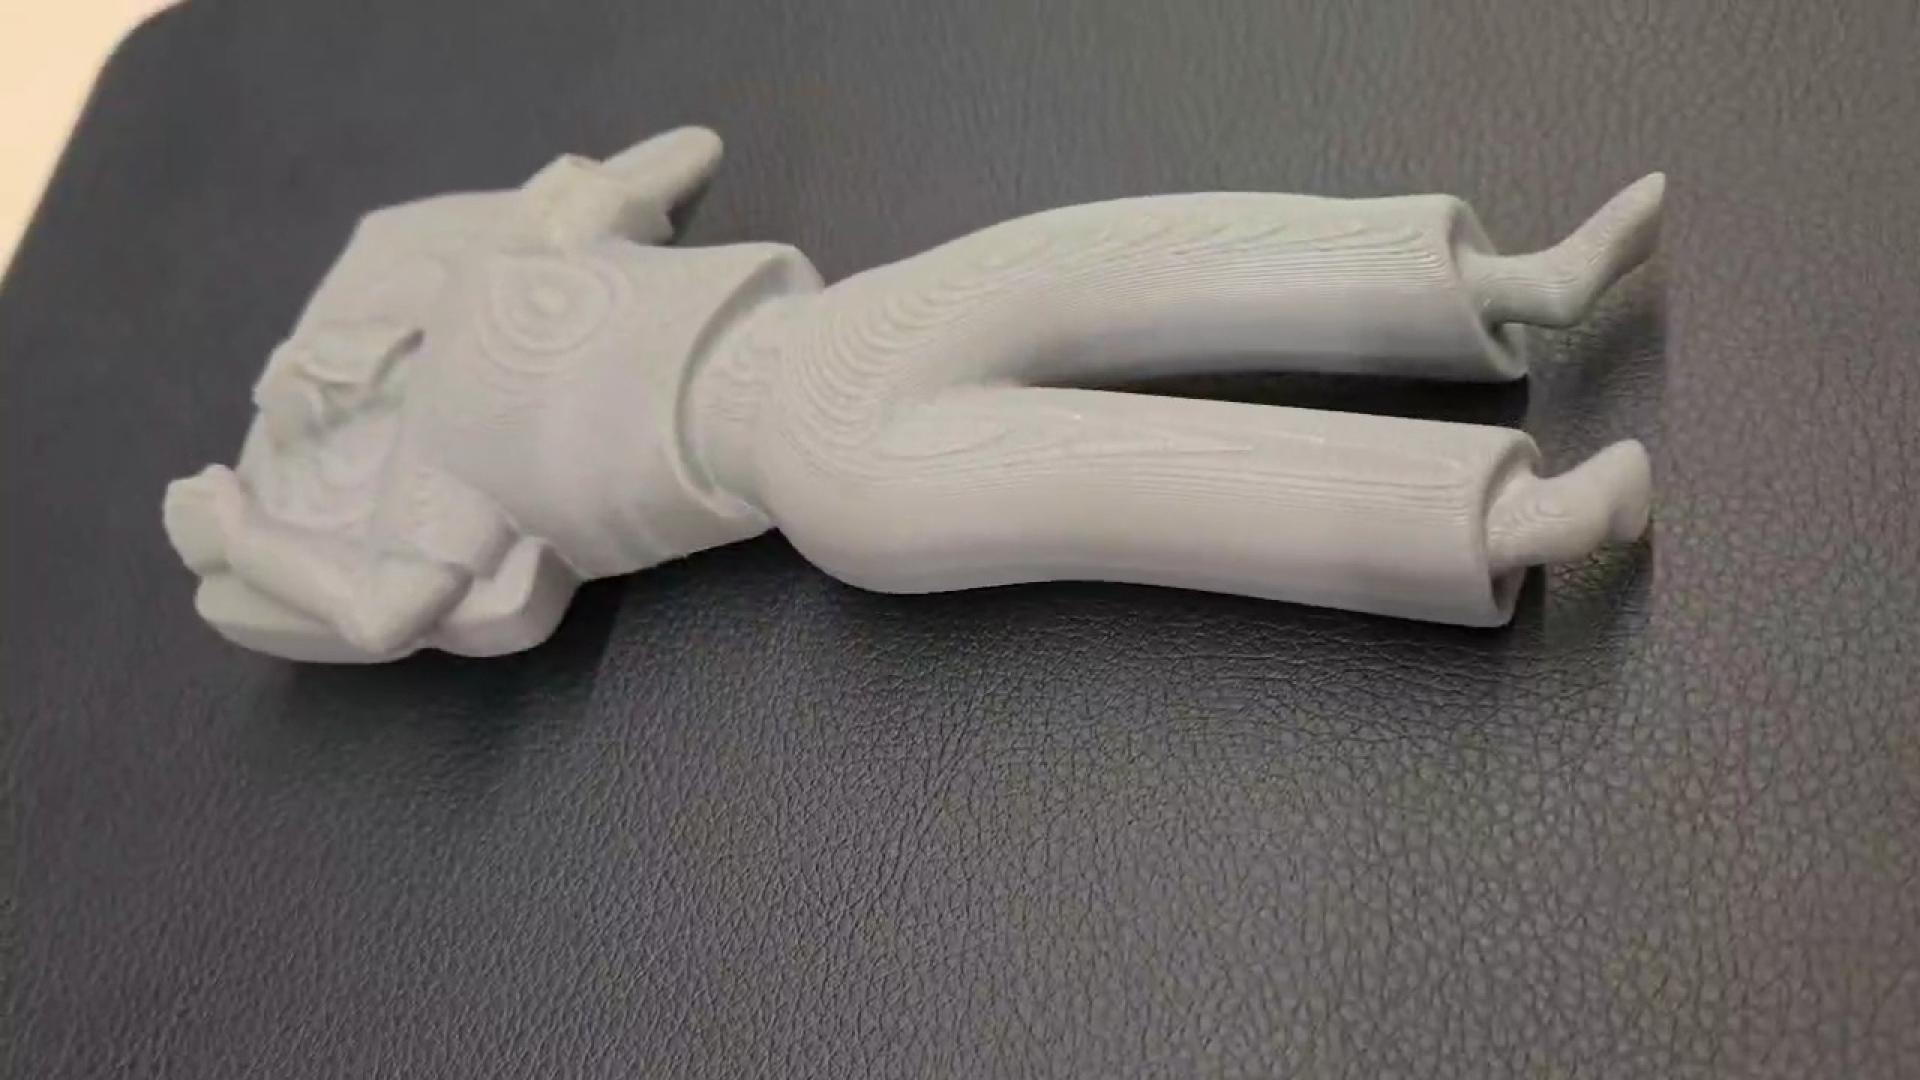Bad-style: (153, 124, 1669, 673)
